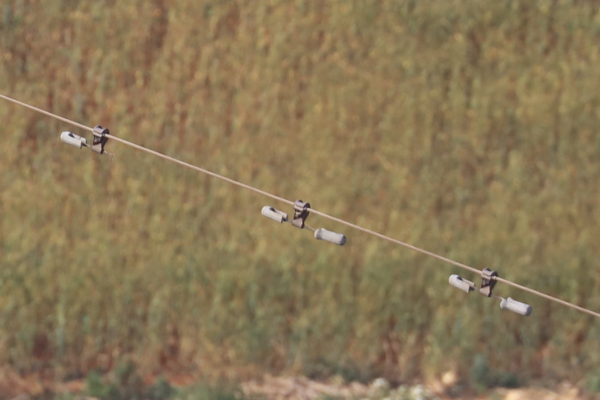damper: (258, 197, 346, 247), (447, 267, 533, 318)
damper_defect: (54, 121, 119, 159)
